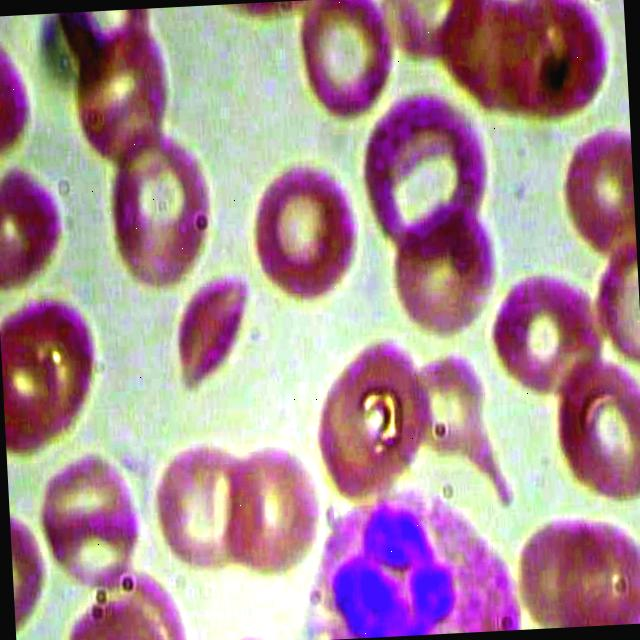WBC: (290, 477, 528, 640)
